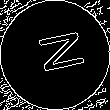N_W: (26, 30, 84, 80)
